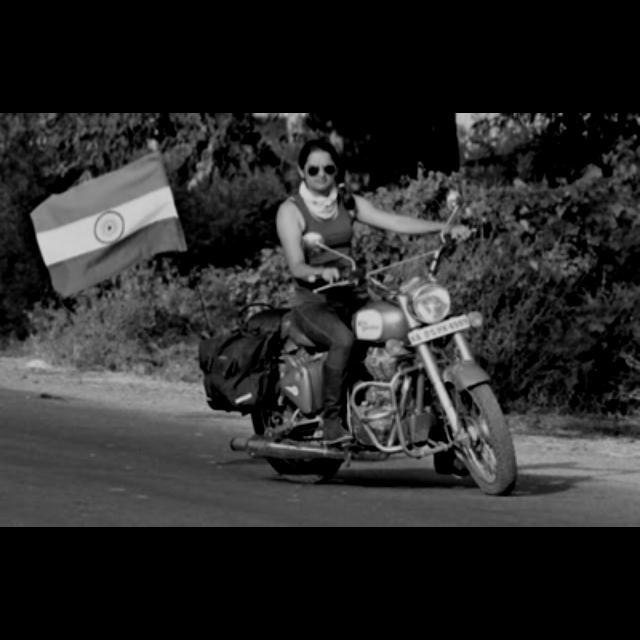Without Helmet: (292, 130, 346, 192)
